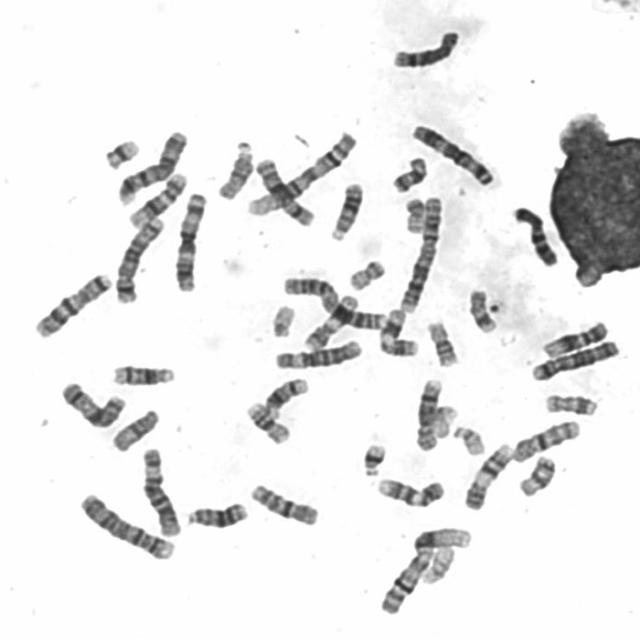A1: (245, 128, 359, 216), (377, 522, 471, 616)
A2: (282, 276, 386, 332), (398, 196, 445, 314)
A3: (412, 123, 496, 187), (172, 190, 208, 293)
B4: (75, 492, 176, 564), (116, 129, 190, 206)
B5: (110, 213, 166, 306), (529, 339, 618, 384)
C10: (250, 482, 319, 528), (512, 419, 581, 464)
C11: (302, 293, 359, 354), (378, 308, 422, 356)
C12: (126, 170, 188, 230), (540, 319, 610, 361)
C6: (141, 447, 183, 536), (274, 339, 362, 372)
C7: (32, 271, 113, 340), (511, 204, 559, 268)
C8: (388, 29, 460, 70), (414, 378, 444, 452)
C9: (462, 442, 514, 512), (375, 474, 447, 509)
D13: (328, 181, 368, 242), (184, 499, 250, 531)
D14: (263, 376, 310, 421), (109, 363, 177, 387)
D15: (214, 139, 255, 202), (110, 408, 160, 455)
E16: (243, 402, 294, 448), (425, 322, 461, 370)
E17: (468, 289, 498, 334), (544, 394, 598, 417)
E18: (517, 454, 557, 498), (391, 156, 428, 194)
F19: (420, 544, 457, 587), (433, 403, 458, 439)
F20: (348, 258, 388, 292), (402, 197, 425, 234)
G21: (101, 138, 140, 172), (358, 442, 388, 477)
G22: (268, 304, 299, 340), (452, 426, 486, 457)
X: (254, 158, 315, 227), (60, 381, 126, 431)
